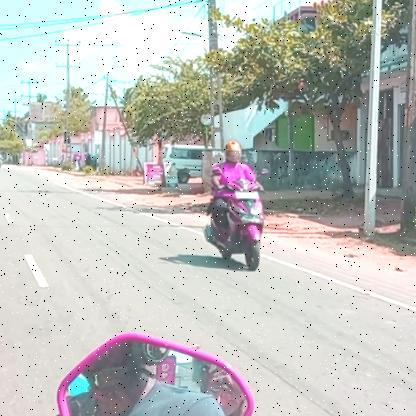motorcycle: (201, 176, 270, 272)
